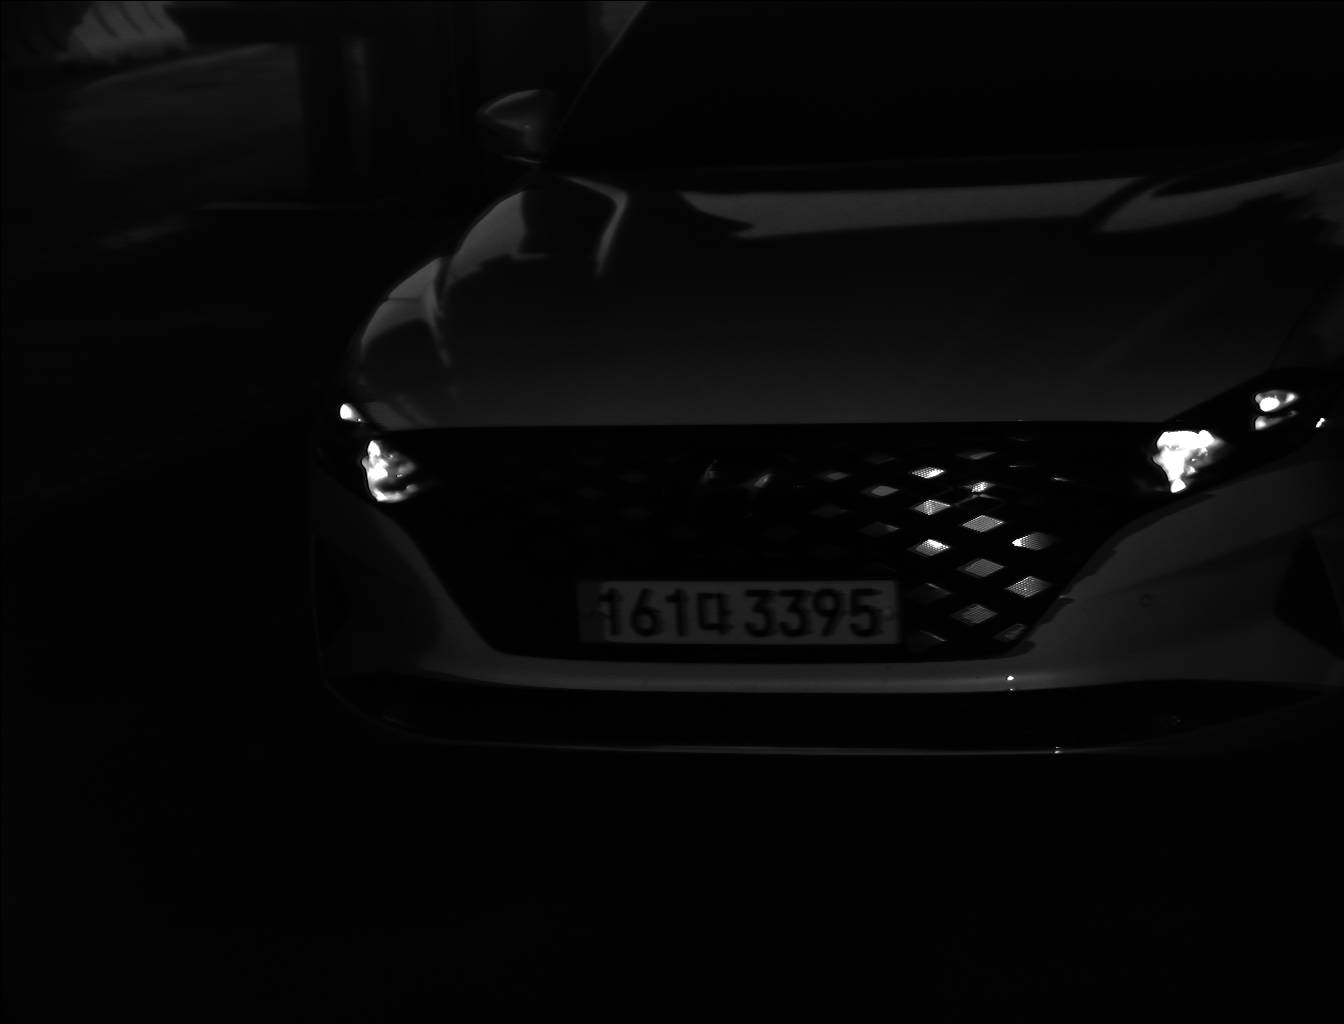car: (333, 1, 1344, 769)
plate: (574, 579, 899, 646)
